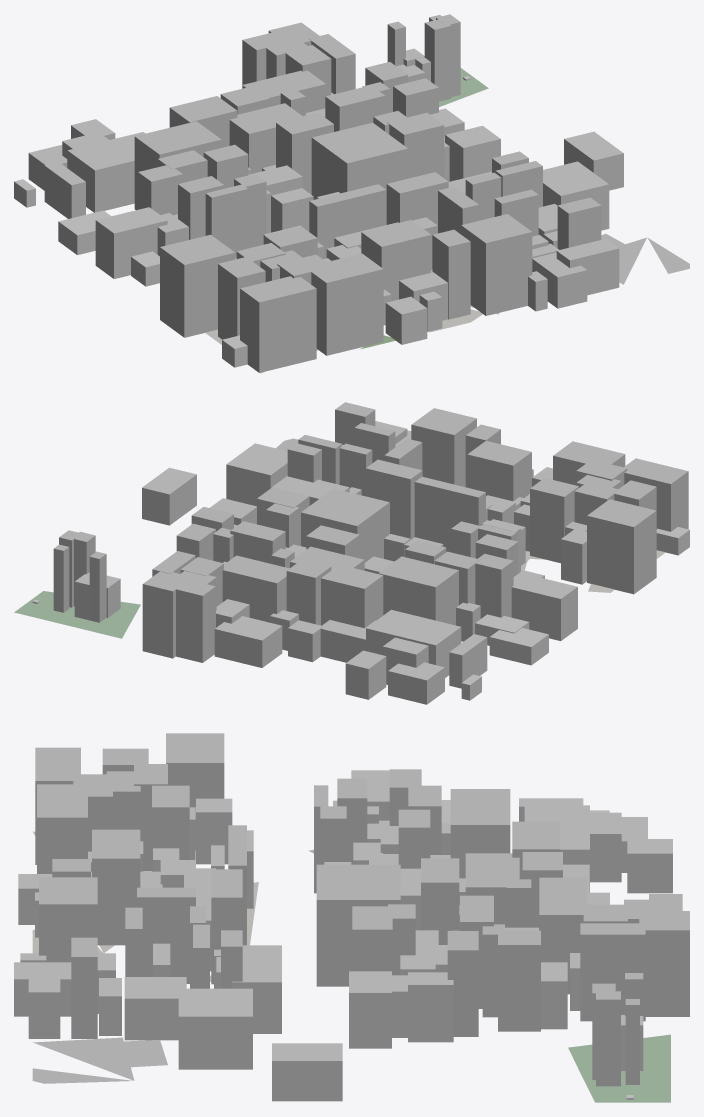
File: 117_101_mid.glb
3 renders of one model, top to bottom at view 1: azimuth 30°, elevation 25°; view 2: azimuth 150°, elevation 25°; view 3: azimuth 270°, elevation 25°, orthographic. The views are drawn at different scales.
Size of the model in its own units: 522 by 76.34 by 530.
